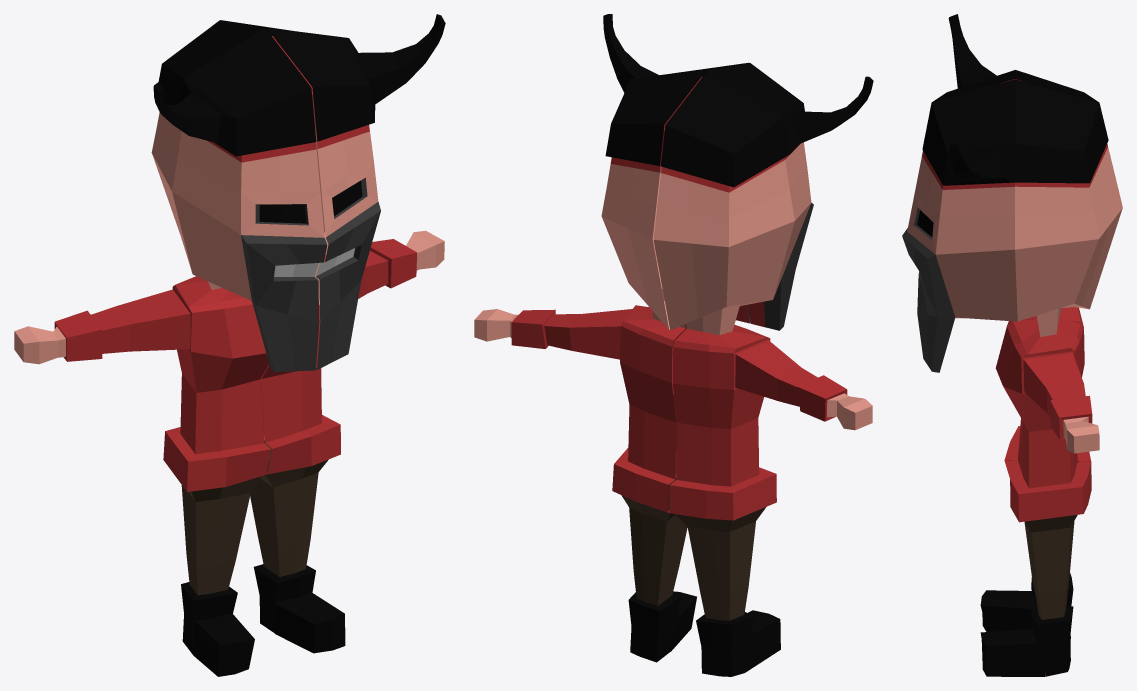
File: Enemy.fbx
The picture shows the model from 3 angles, left to right: view 1: azimuth 30°, elevation 25°; view 2: azimuth 150°, elevation 25°; view 3: azimuth 270°, elevation 25°; orthographic projection. The views are drawn at different scales.
Visible parts, largest first — view 1: Cube; view 2: Cube; view 3: Cube.
Part boxes in pixels (x1,y1,x2,y2): Cube: (14,14,445,676); Cube: (474,14,873,676); Cube: (902,14,1122,676).
Bounding box in the file's own units: 243 × 490 × 700.
